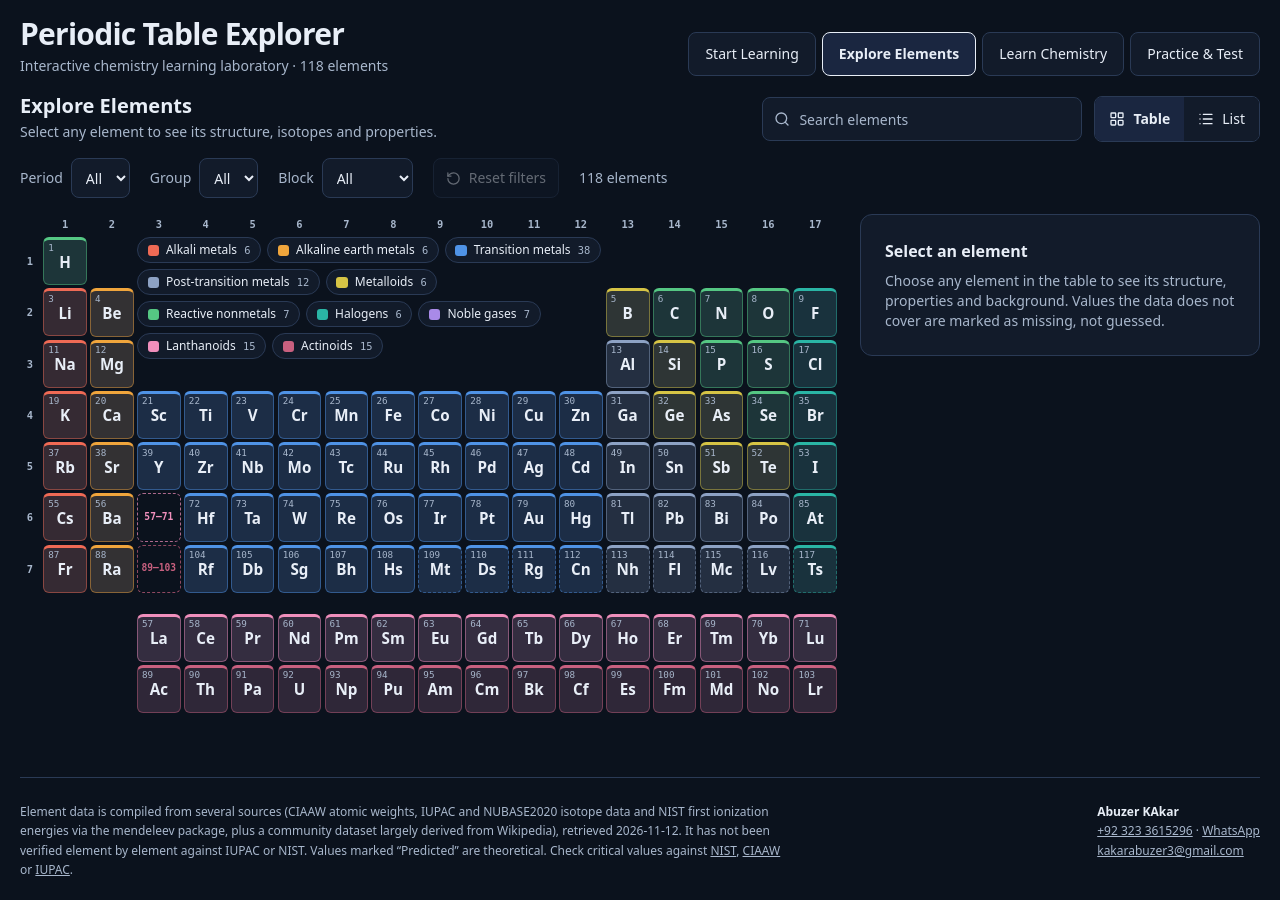
Test: search › finds by name and selects the top hit on Enter
This screenshot has width=1280, height=900.
Type "gold" into the search field. click: (922, 119)
box: [762, 97, 1082, 141]
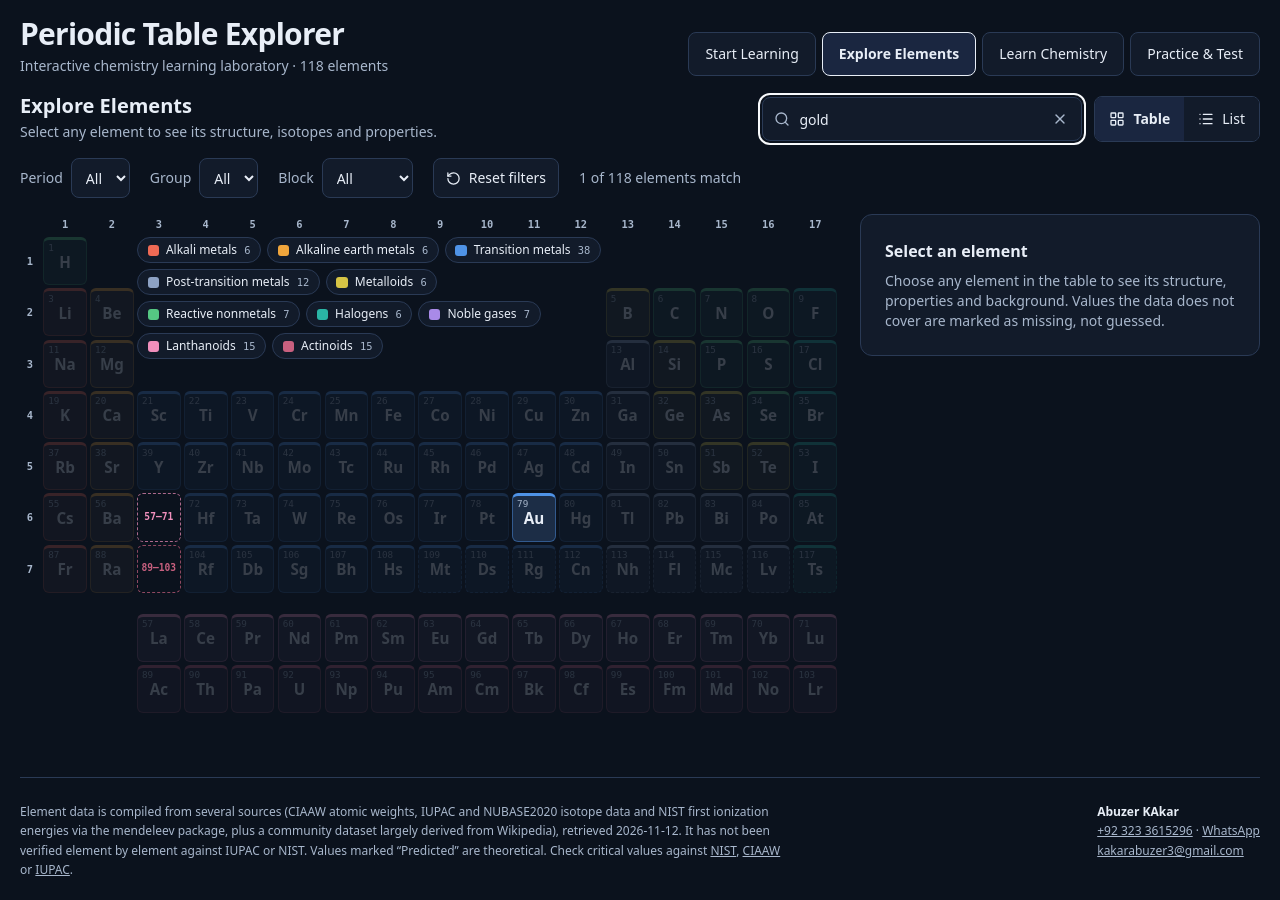
Check: the message reads "1 of 118 elements match", box [579, 168, 741, 187]
Press Enter
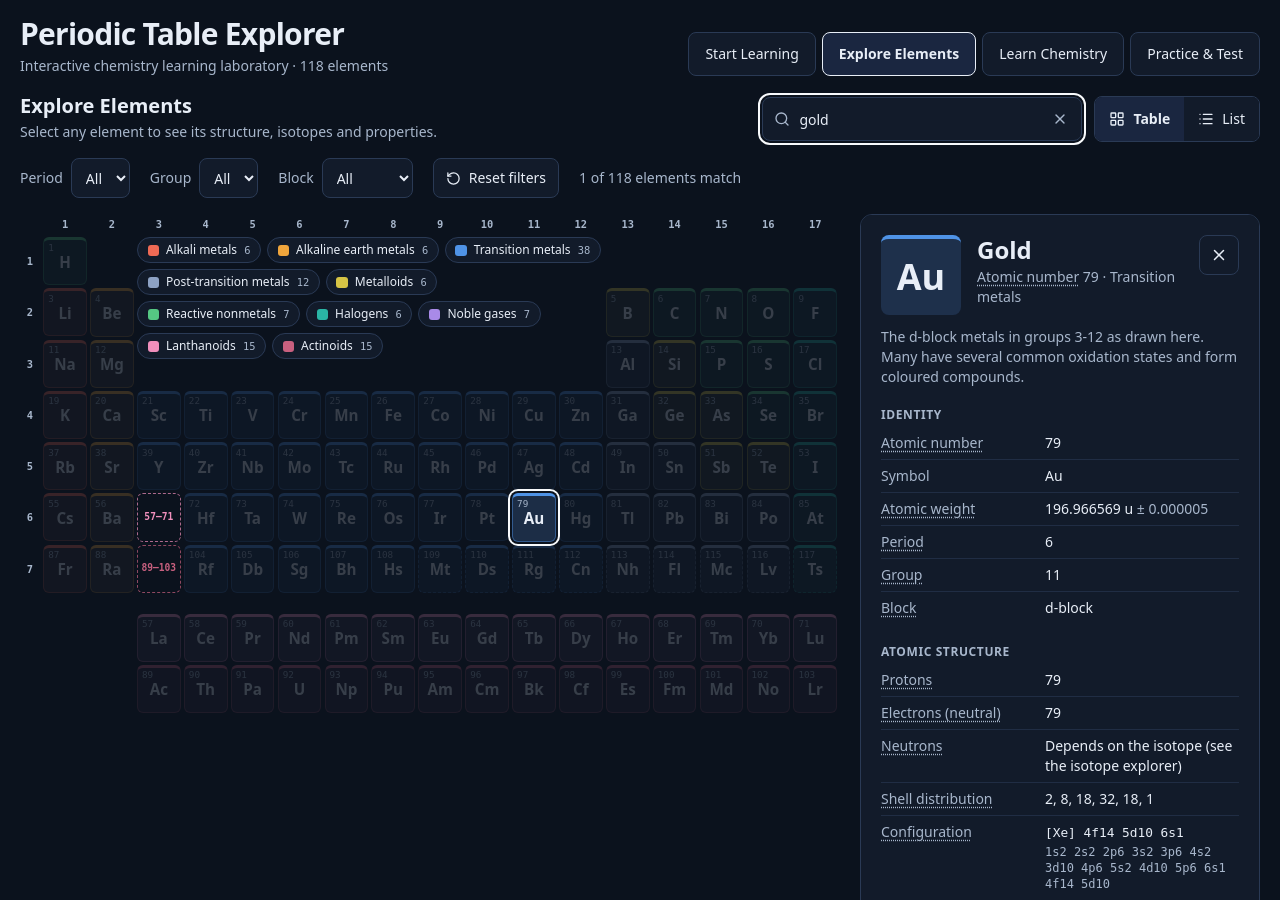
Check: the heading "Gold" is shown, box [977, 233, 1032, 266]
